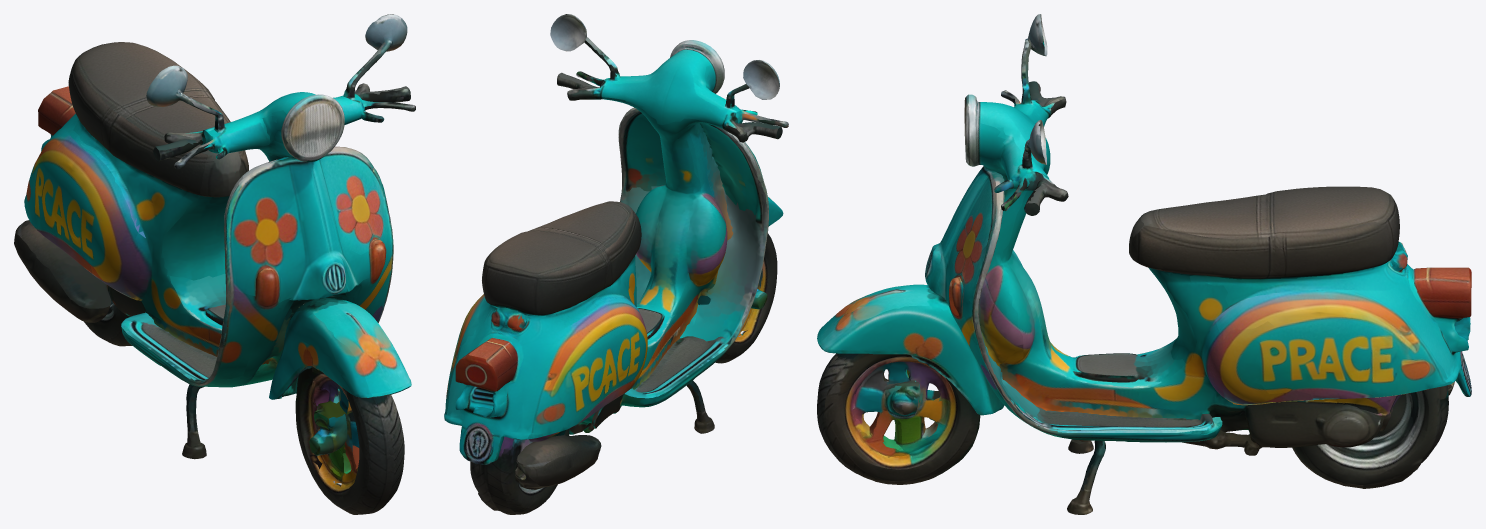
Rendered from uploaded.glb.
3 renders of one model, left to right at view 1: azimuth 30°, elevation 25°; view 2: azimuth 150°, elevation 25°; view 3: azimuth 270°, elevation 25°, orthographic. The views are drawn at different scales.
Visible parts, largest first — view 1: Scooter; view 2: Scooter; view 3: Scooter.
Part boxes in pixels (x1,y1,x2,y2): Scooter: [14, 14, 415, 514]; Scooter: [444, 14, 788, 514]; Scooter: [817, 14, 1471, 514].
Bounding box in the file's own units: 0.8235 × 1.26 × 1.8.
Materials: 1 (1 with a texture image).
